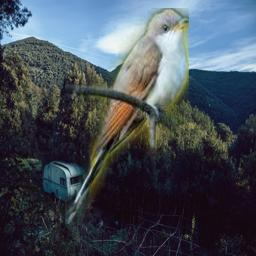Cuckoo: (65, 8, 189, 224)
